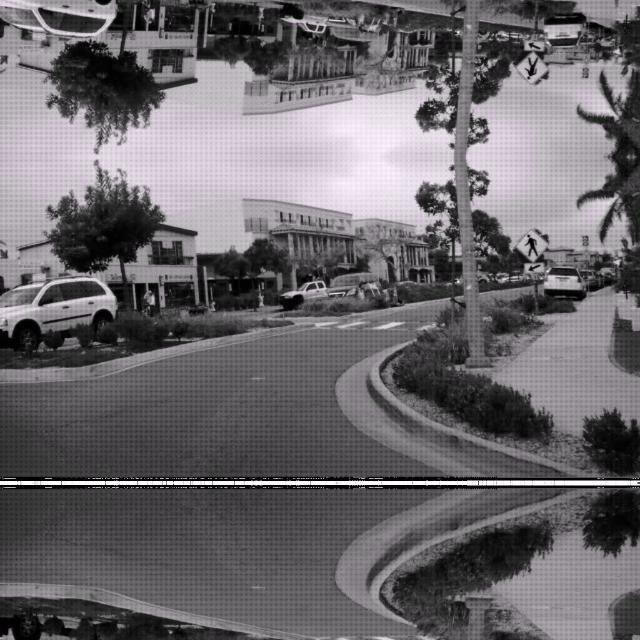pedestrianCrossing: (514, 226, 550, 262), (514, 50, 550, 86)
